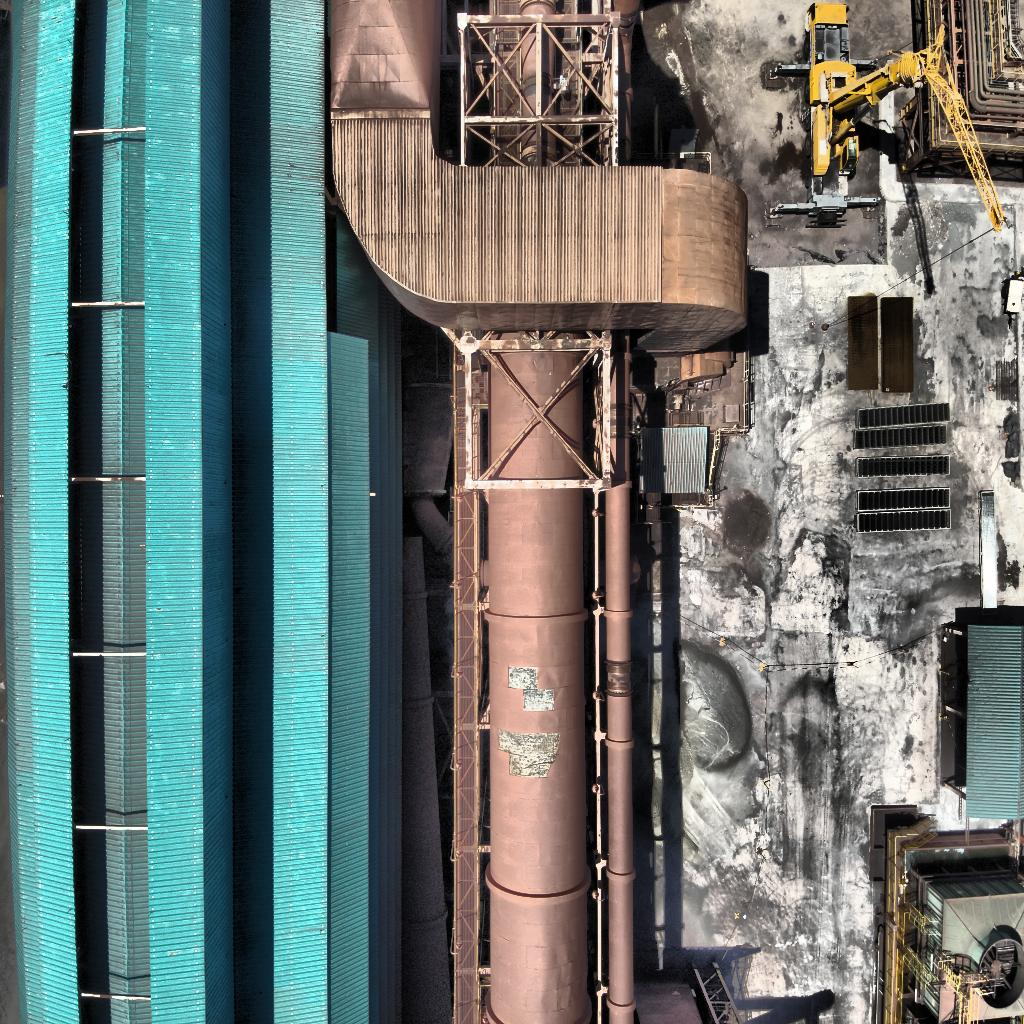Failures: (497, 729, 562, 755), (508, 752, 558, 780), (629, 371, 683, 394), (508, 664, 539, 690), (522, 689, 556, 712)
